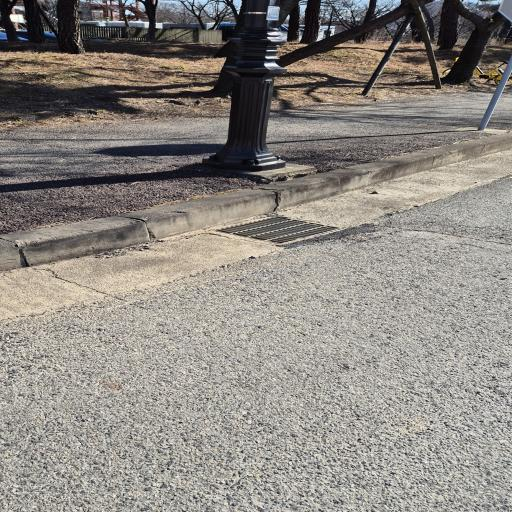drain: (218, 216, 338, 244)
